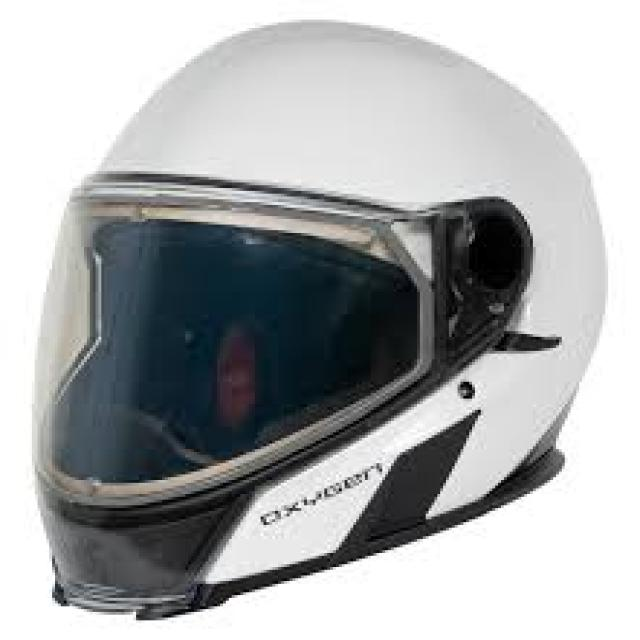Helmet: (32, 20, 615, 629)
